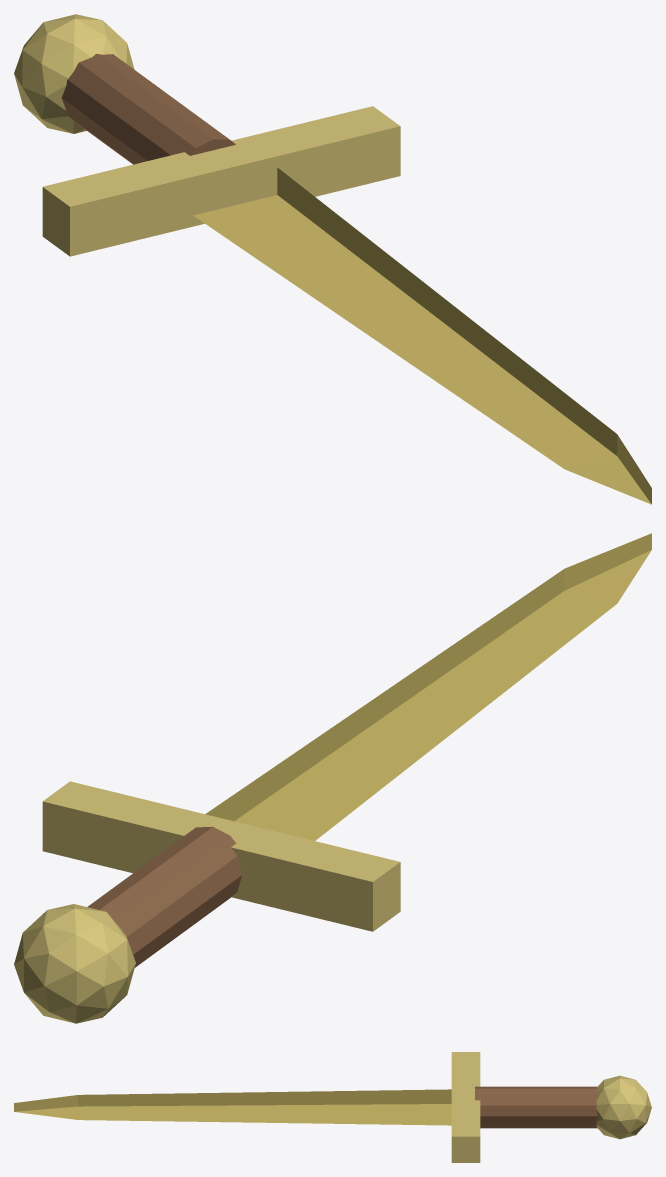
The model's file is giant_golden_sword.glb.
The picture shows the model from 3 angles, top to bottom: view 1: azimuth 30°, elevation 25°; view 2: azimuth 150°, elevation 25°; view 3: azimuth 270°, elevation 25°; orthographic projection. The views are drawn at different scales.
Visible parts, largest first — view 1: Blade, Guard, Handle, Pommel; view 2: Blade, Guard, Pommel, Handle; view 3: Blade, Handle, Guard, Pommel.
Part boxes in pixels (box(x1,y1,x2,y2)): Blade: box(193, 167, 651, 504); Guard: box(42, 106, 400, 256); Handle: box(61, 53, 235, 164); Pommel: box(14, 14, 134, 133); Blade: box(205, 533, 651, 840); Guard: box(42, 781, 400, 931); Pommel: box(14, 904, 135, 1023); Handle: box(87, 826, 241, 967); Blade: box(14, 1089, 451, 1125); Handle: box(475, 1086, 597, 1128); Guard: box(451, 1052, 480, 1162); Pommel: box(596, 1075, 651, 1139).
Size of the model in its own units: 2.5 by 0.8 by 7.96.
